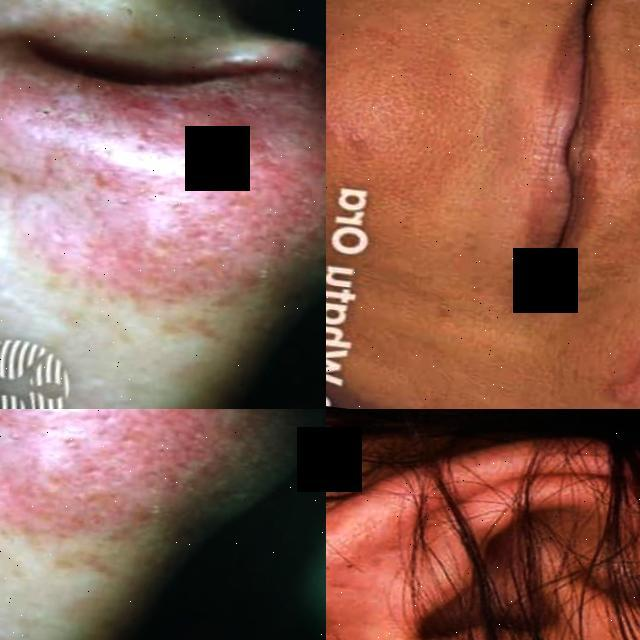lupus-detected: (0, 0, 326, 365), (0, 409, 326, 633), (326, 0, 447, 179), (530, 229, 640, 409), (433, 379, 530, 409)
